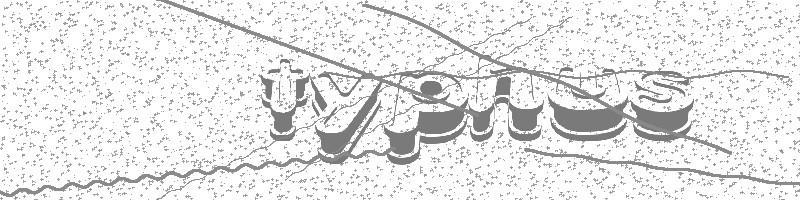h: (468, 54, 546, 143)
p: (385, 70, 468, 166)
s: (631, 70, 696, 139)
t: (259, 57, 308, 142)
u: (546, 66, 631, 142)
y: (308, 71, 384, 167)
